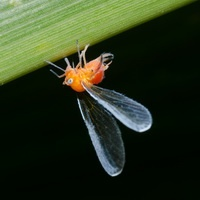insect: (45, 42, 151, 175)
